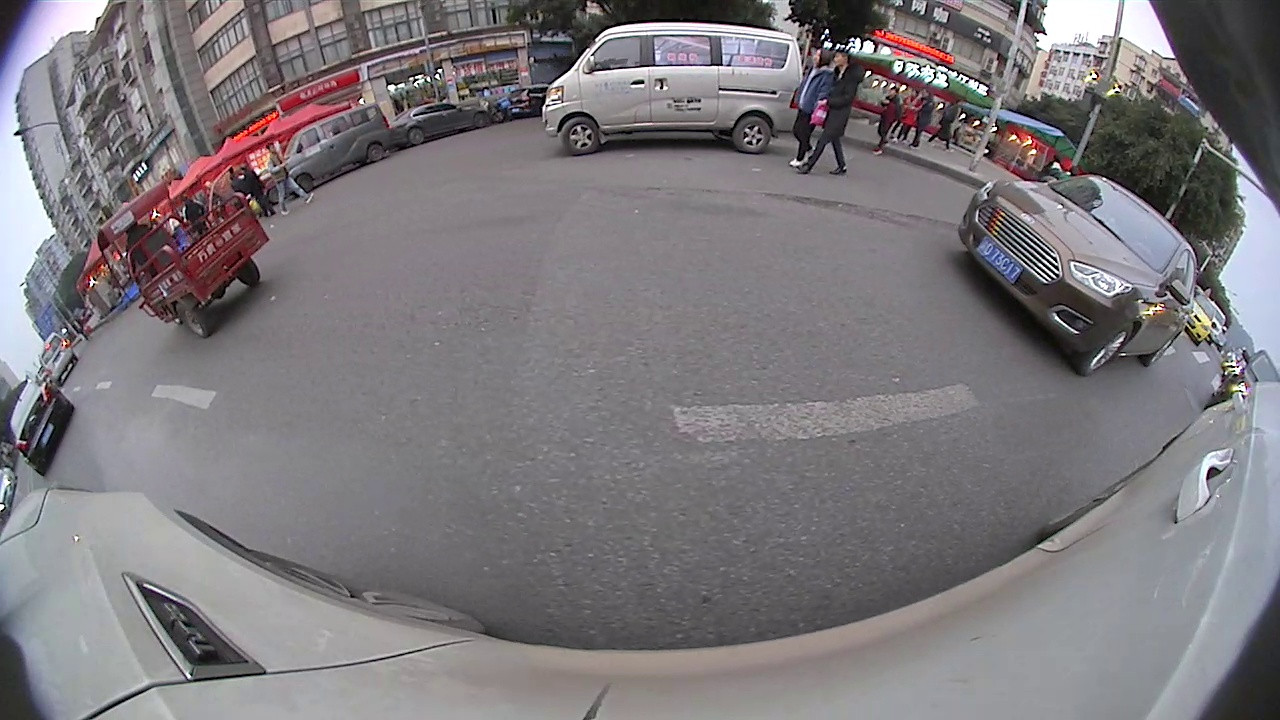car: (960, 173, 1202, 380), (537, 24, 807, 159), (285, 101, 395, 193), (5, 372, 79, 478), (387, 100, 492, 155), (31, 329, 83, 384)
front: (1080, 320, 1136, 381), (558, 112, 604, 162)
person: (826, 47, 859, 174), (798, 42, 827, 173), (262, 137, 299, 219)
rear: (171, 296, 217, 338), (732, 113, 773, 155)
rider: (95, 180, 271, 341)
